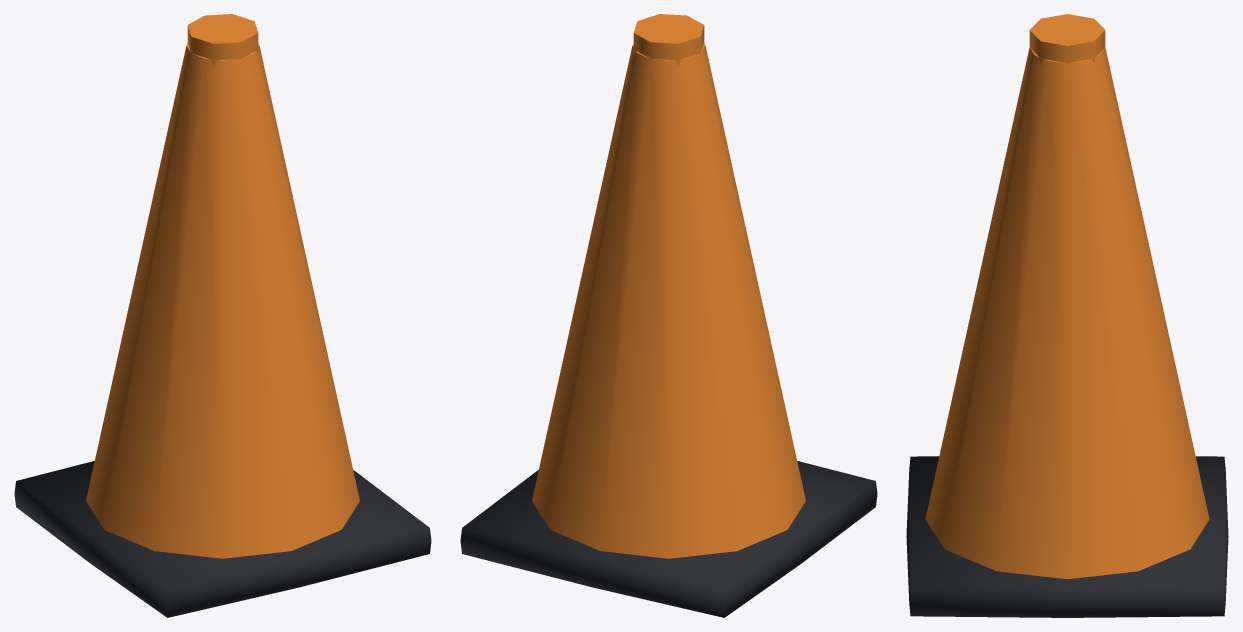
File: traffic_cone.glb
The picture shows the model from 3 angles, left to right: view 1: azimuth 30°, elevation 25°; view 2: azimuth 150°, elevation 25°; view 3: azimuth 270°, elevation 25°; orthographic projection. The views are drawn at different scales.
Parts seen in each view (by area): view 1: root; view 2: root; view 3: root.
Boxes of the visible parts, x1=… form: root: x1=14, y1=14, x2=431, y2=617; root: x1=460, y1=14, x2=877, y2=617; root: x1=906, y1=14, x2=1228, y2=617.
Size of the model in its own units: 0.34 by 0.61 by 0.34.
